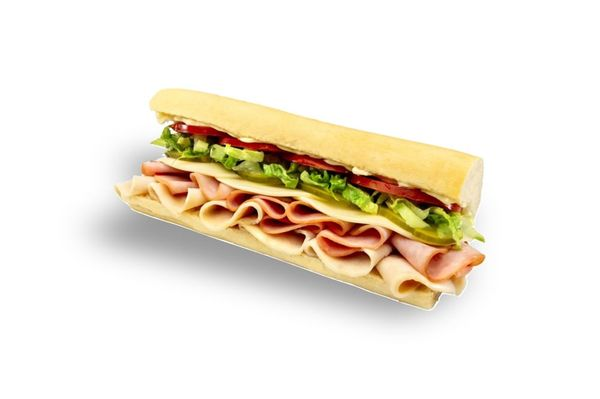soup: (137, 88, 486, 307)
